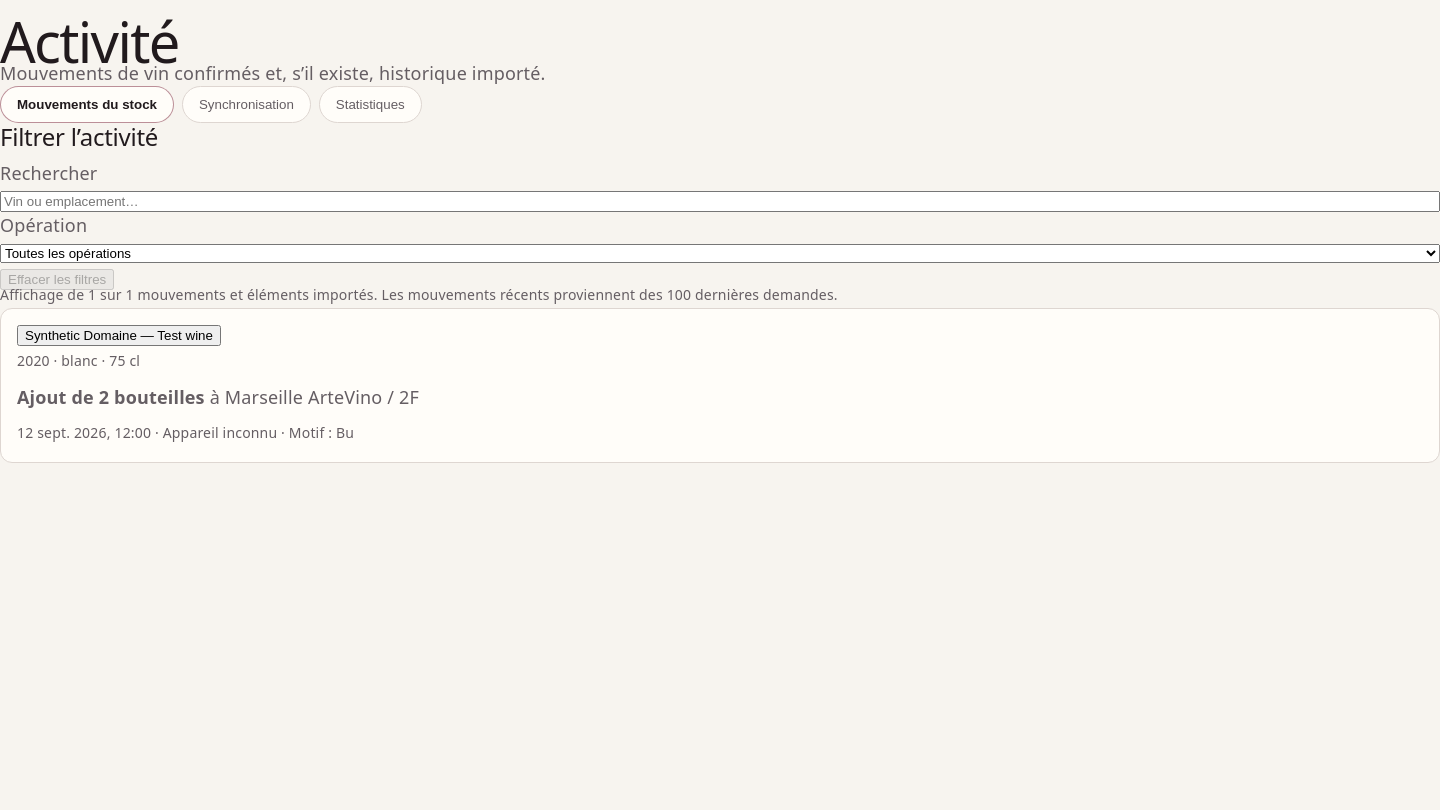
it: rejected-operation UX › localizes activity actions, status, wine color and missing device on French UI
Expected: the text "Synchronisé" is not shown
Click the button "Synchronisation": (246, 105) [182,86,311,123]
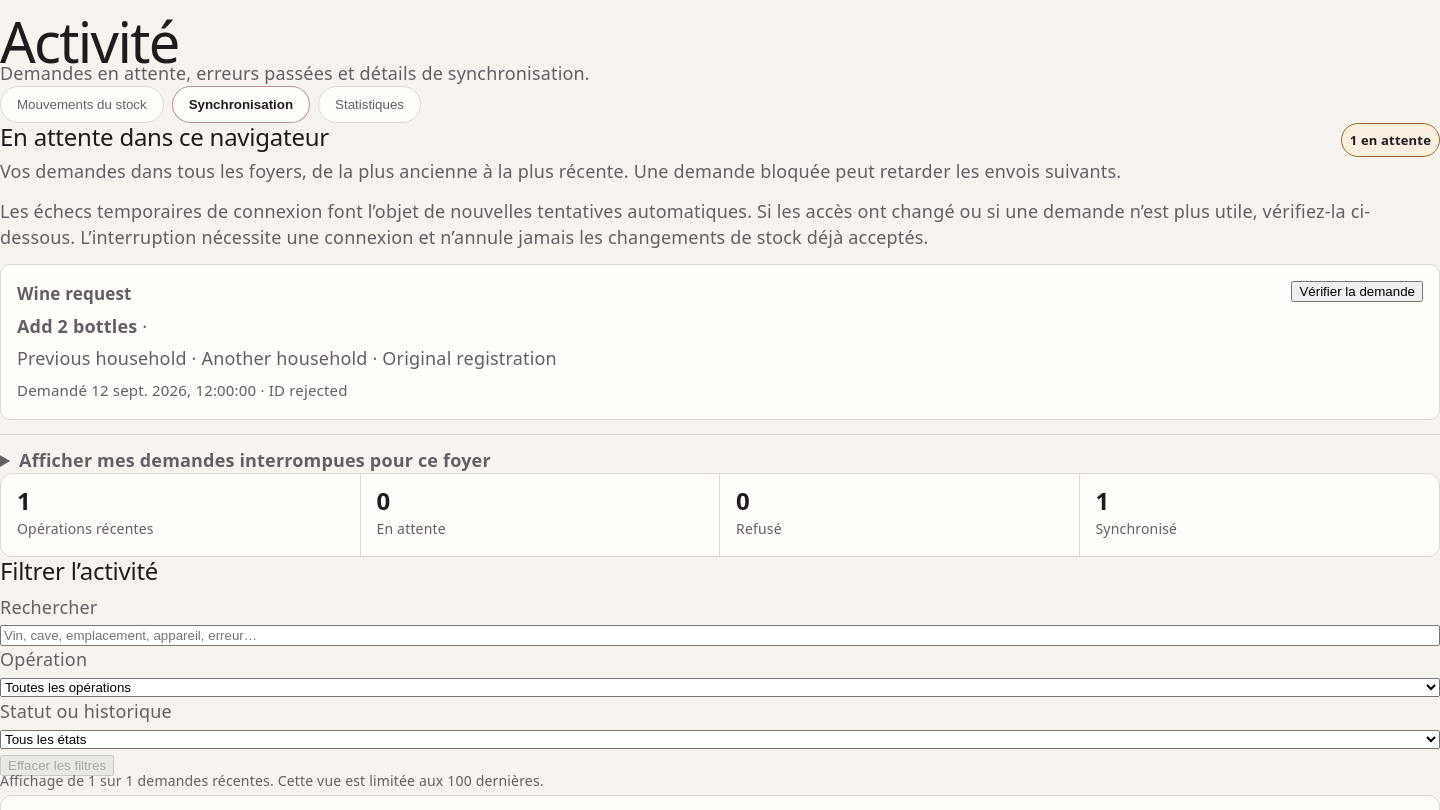
Expected: the text "Synchronisé" is shown, [1096,519,1177,538]
